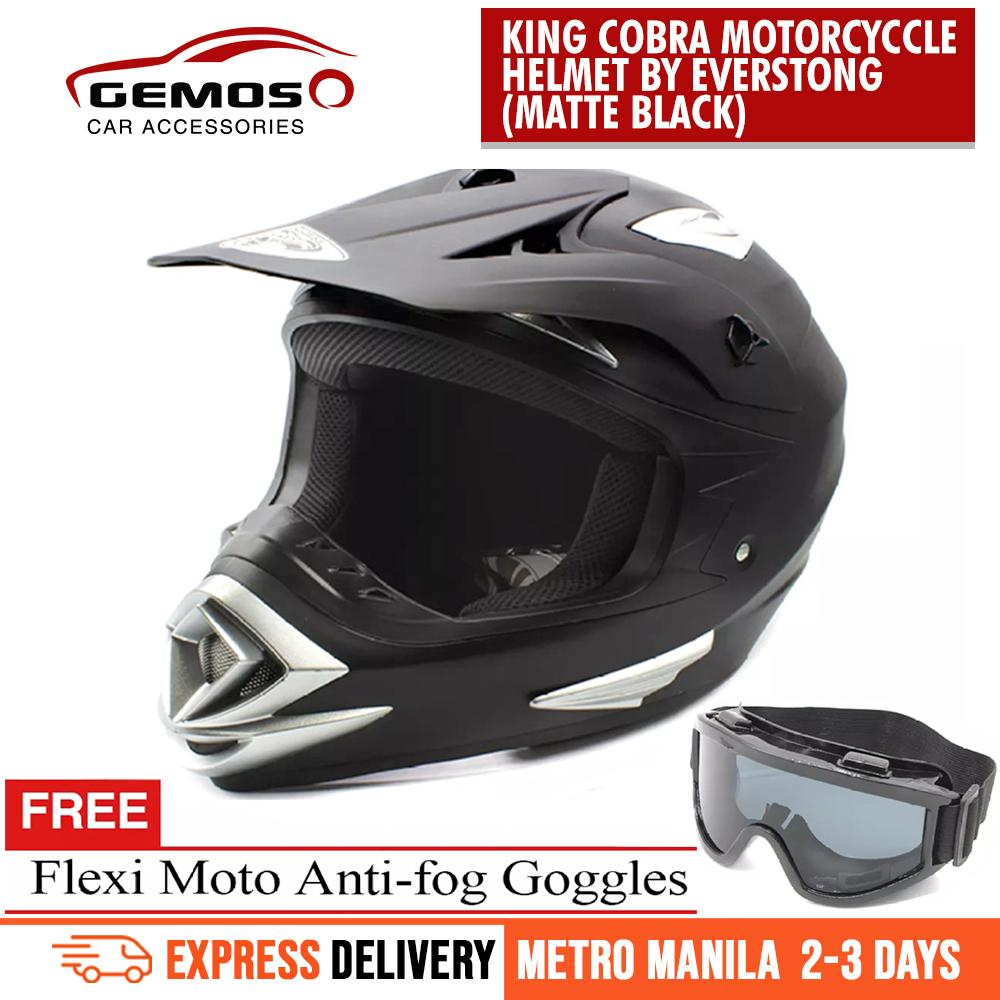with_helmet: (125, 157, 858, 800)
